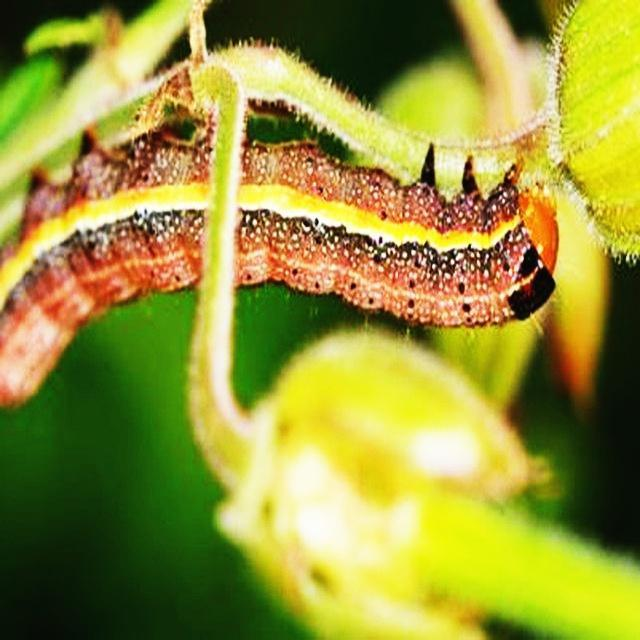gusano_cogollero: (0, 126, 560, 416)
